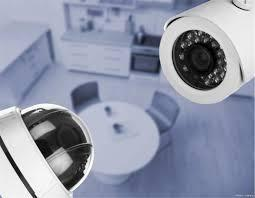tutu: (155, 0, 255, 107), (0, 103, 97, 198)
